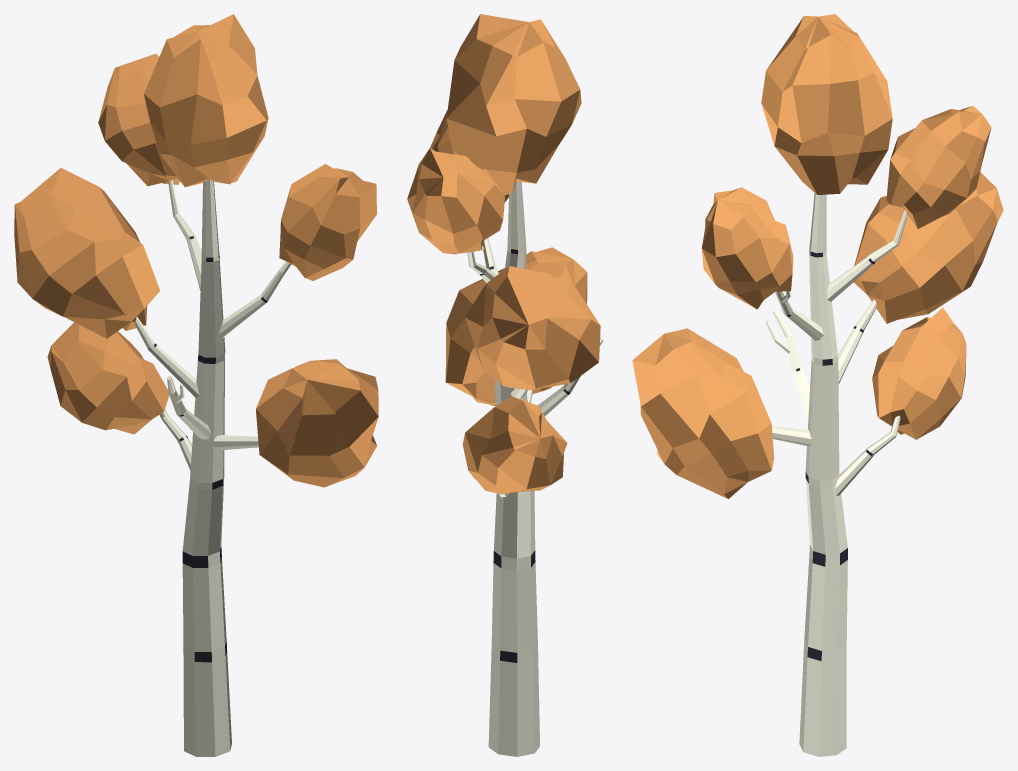
File: Birch2_autumn.FBX
3 renders of one model, left to right at view 1: azimuth 30°, elevation 25°; view 2: azimuth 150°, elevation 25°; view 3: azimuth 270°, elevation 25°, orthographic.
Visible parts, largest first — view 1: Berezka1.003; view 2: Berezka1.003; view 3: Berezka1.003.
Part boxes in pixels (left/top/right/bottom): Berezka1.003: left=14, top=14, right=378, bottom=756; Berezka1.003: left=407, top=14, right=603, bottom=756; Berezka1.003: left=632, top=14, right=1003, bottom=756.
Bounding box in the file's own units: 2.87 × 7.91 × 3.67.
